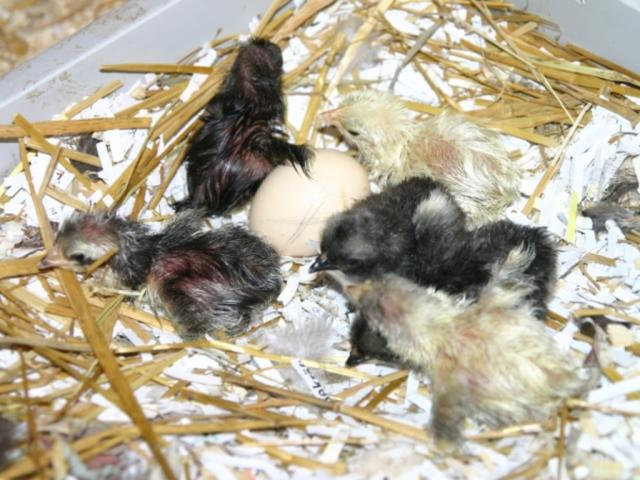Bird: (351, 267, 590, 447), (35, 204, 287, 343), (347, 225, 560, 370), (316, 90, 522, 234), (171, 52, 308, 214), (308, 172, 470, 279)
